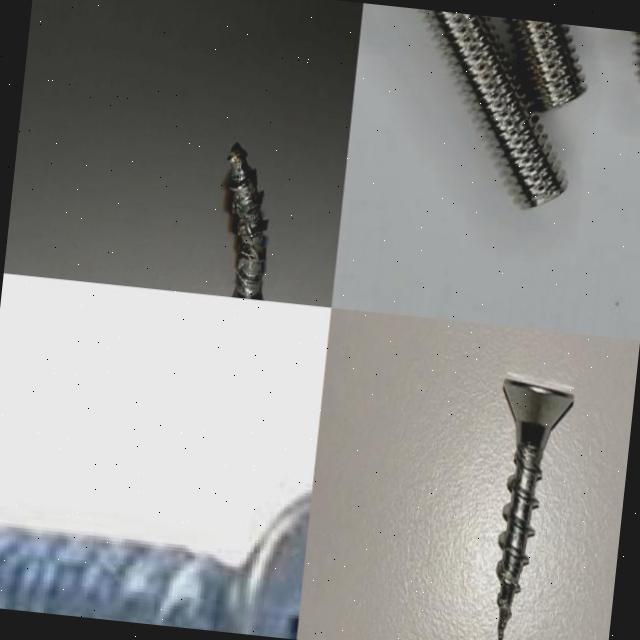Screw: (0, 497, 311, 639), (423, 9, 564, 207), (496, 375, 574, 640), (506, 18, 585, 108), (227, 141, 268, 300)
